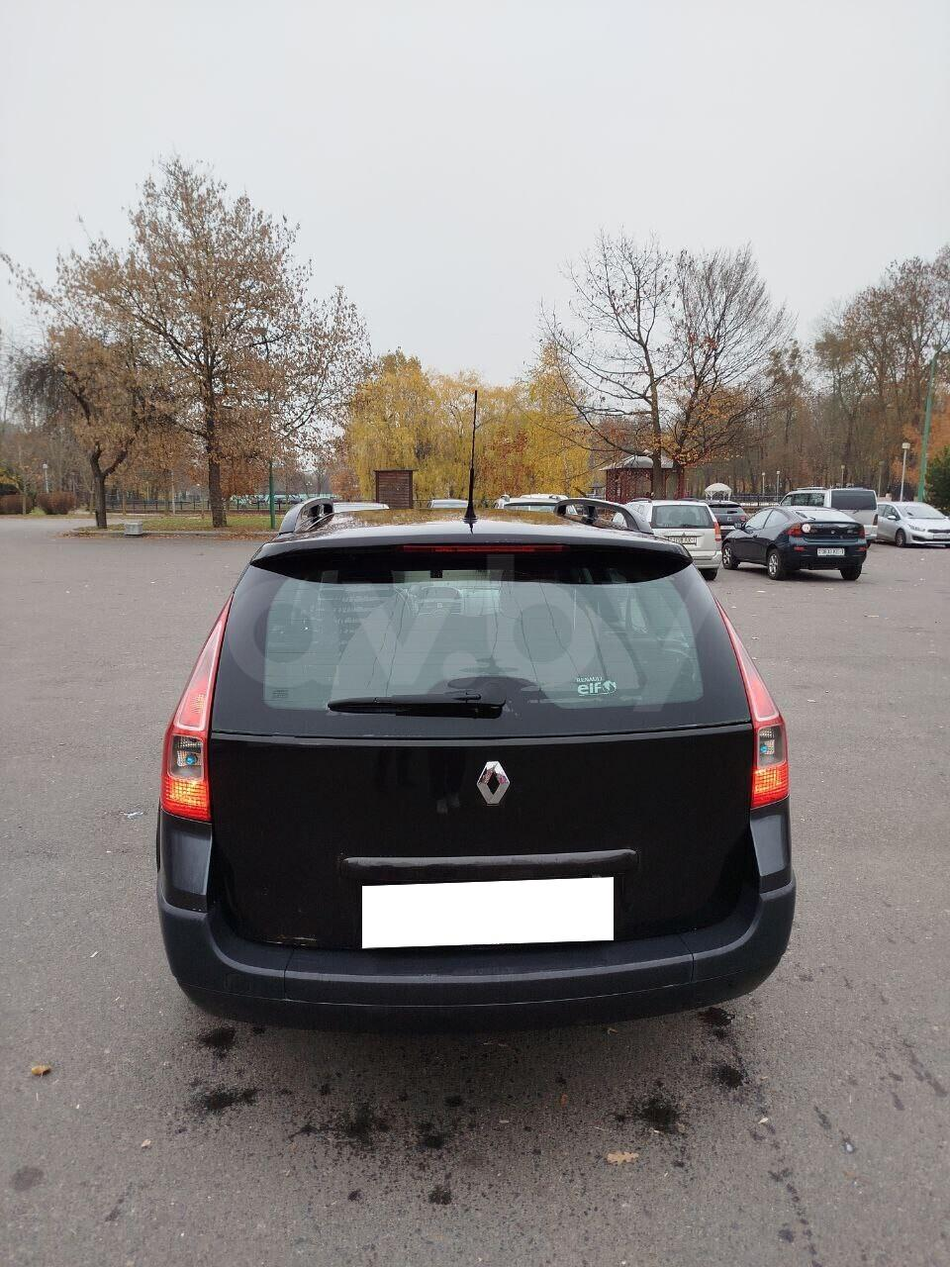Megane_2005-2009: (134, 497, 815, 1048)
